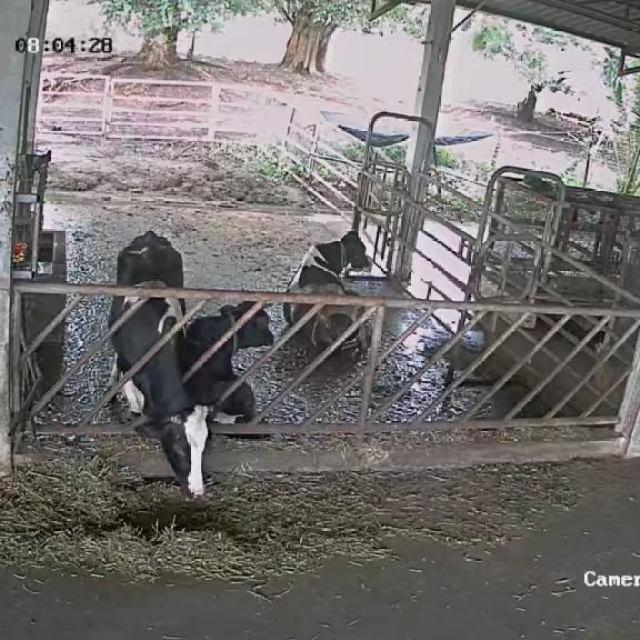lying down: (174, 293, 277, 434), (278, 228, 386, 354)
standing: (110, 230, 216, 507)
